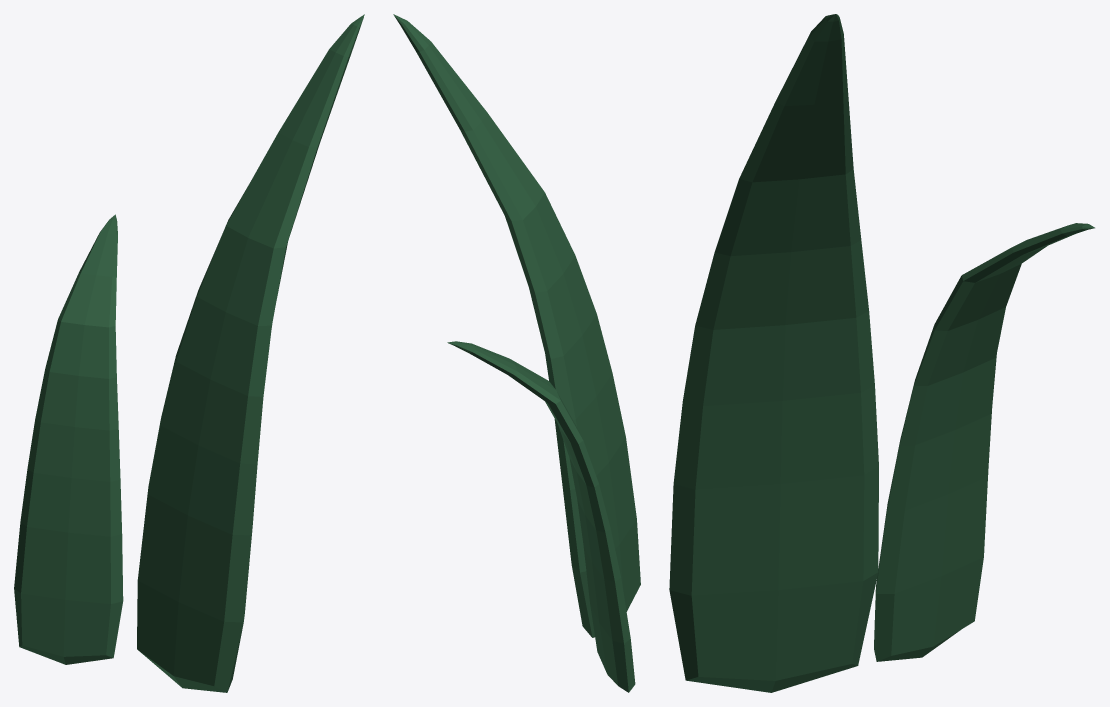
Rendered from hoja2.fbx.
3 renders of one model, left to right at view 1: azimuth 30°, elevation 25°; view 2: azimuth 150°, elevation 25°; view 3: azimuth 270°, elevation 25°, orthographic. The views are drawn at different scales.
Visible parts, largest first — view 1: DosPastos.004; view 2: DosPastos.004; view 3: DosPastos.004.
Boxes of the visible parts, left/top/right/bottom form: DosPastos.004: left=14, top=14, right=364, bottom=692; DosPastos.004: left=393, top=14, right=640, bottom=692; DosPastos.004: left=669, top=14, right=1094, bottom=692.
Size of the model in its own units: 11.27 by 22.06 by 10.41.
Materials: 1 (1 with a texture image).
